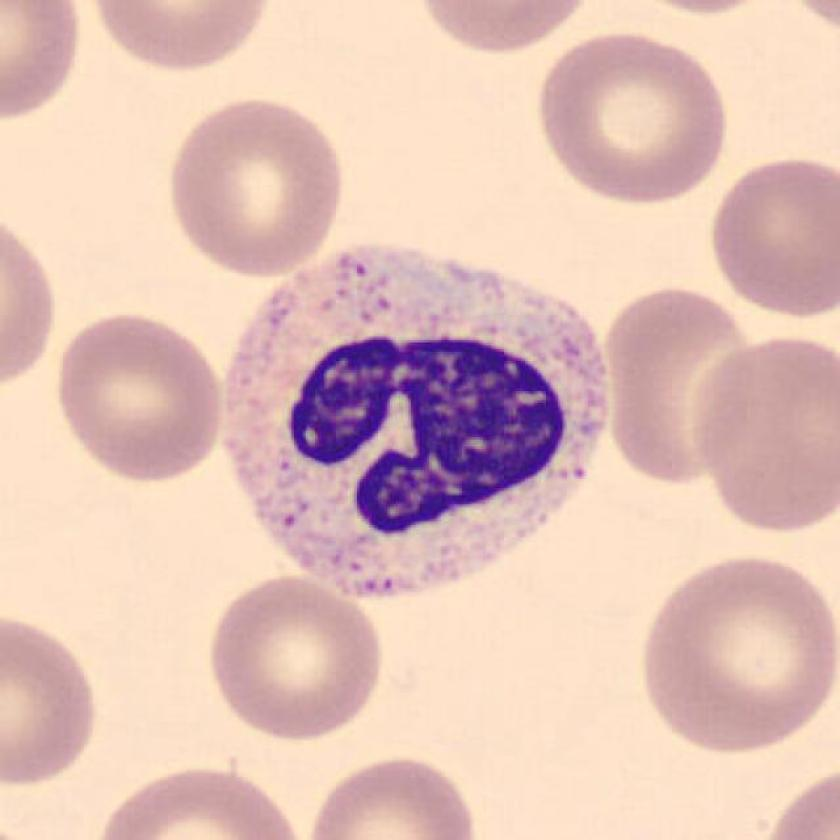neutrophil: (224, 249, 605, 600)
